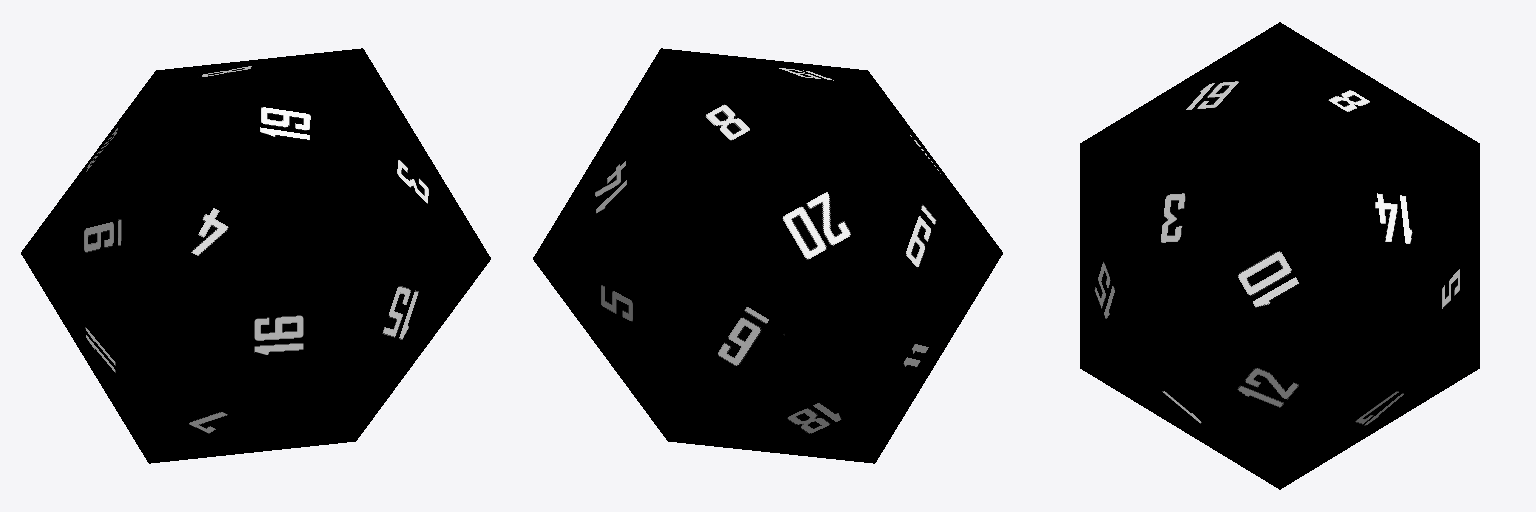
The picture shows the model from 3 angles: view 1: azimuth 30°, elevation 25°; view 2: azimuth 150°, elevation 25°; view 3: azimuth 270°, elevation 25°; orthographic projection.
Parts seen in each view (by area): view 1: Die; view 2: Die; view 3: Die.
Boxes of the visible parts, <box> form: Die: <box>21,48,490,463</box>; Die: <box>533,48,1002,463</box>; Die: <box>1080,22,1479,489</box>.
Size of the model in its own units: 1.7 by 1.7 by 1.7.
1 materials, 1 textured.